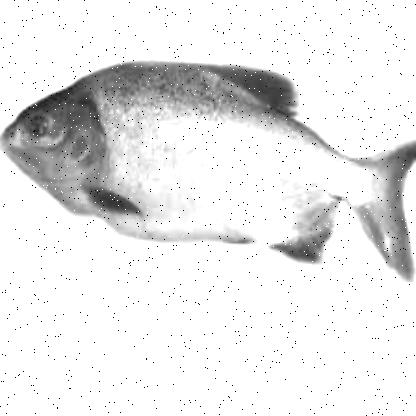ikan-pacu: (3, 58, 414, 270)
